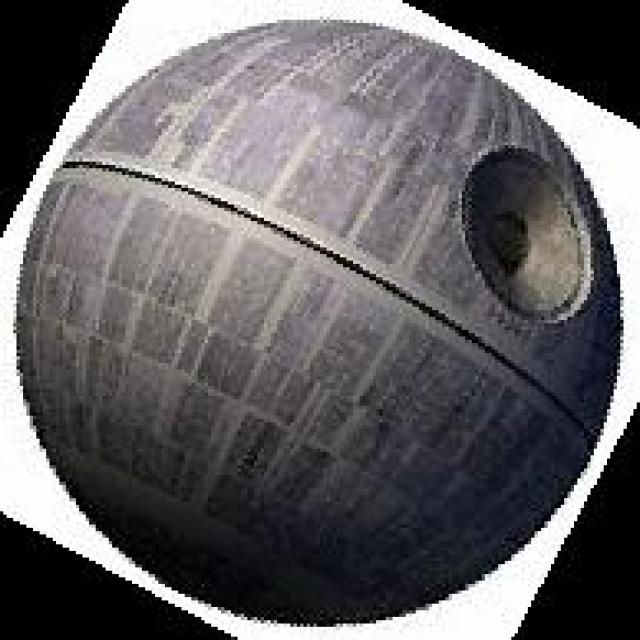Death Star: (4, 10, 624, 633)
